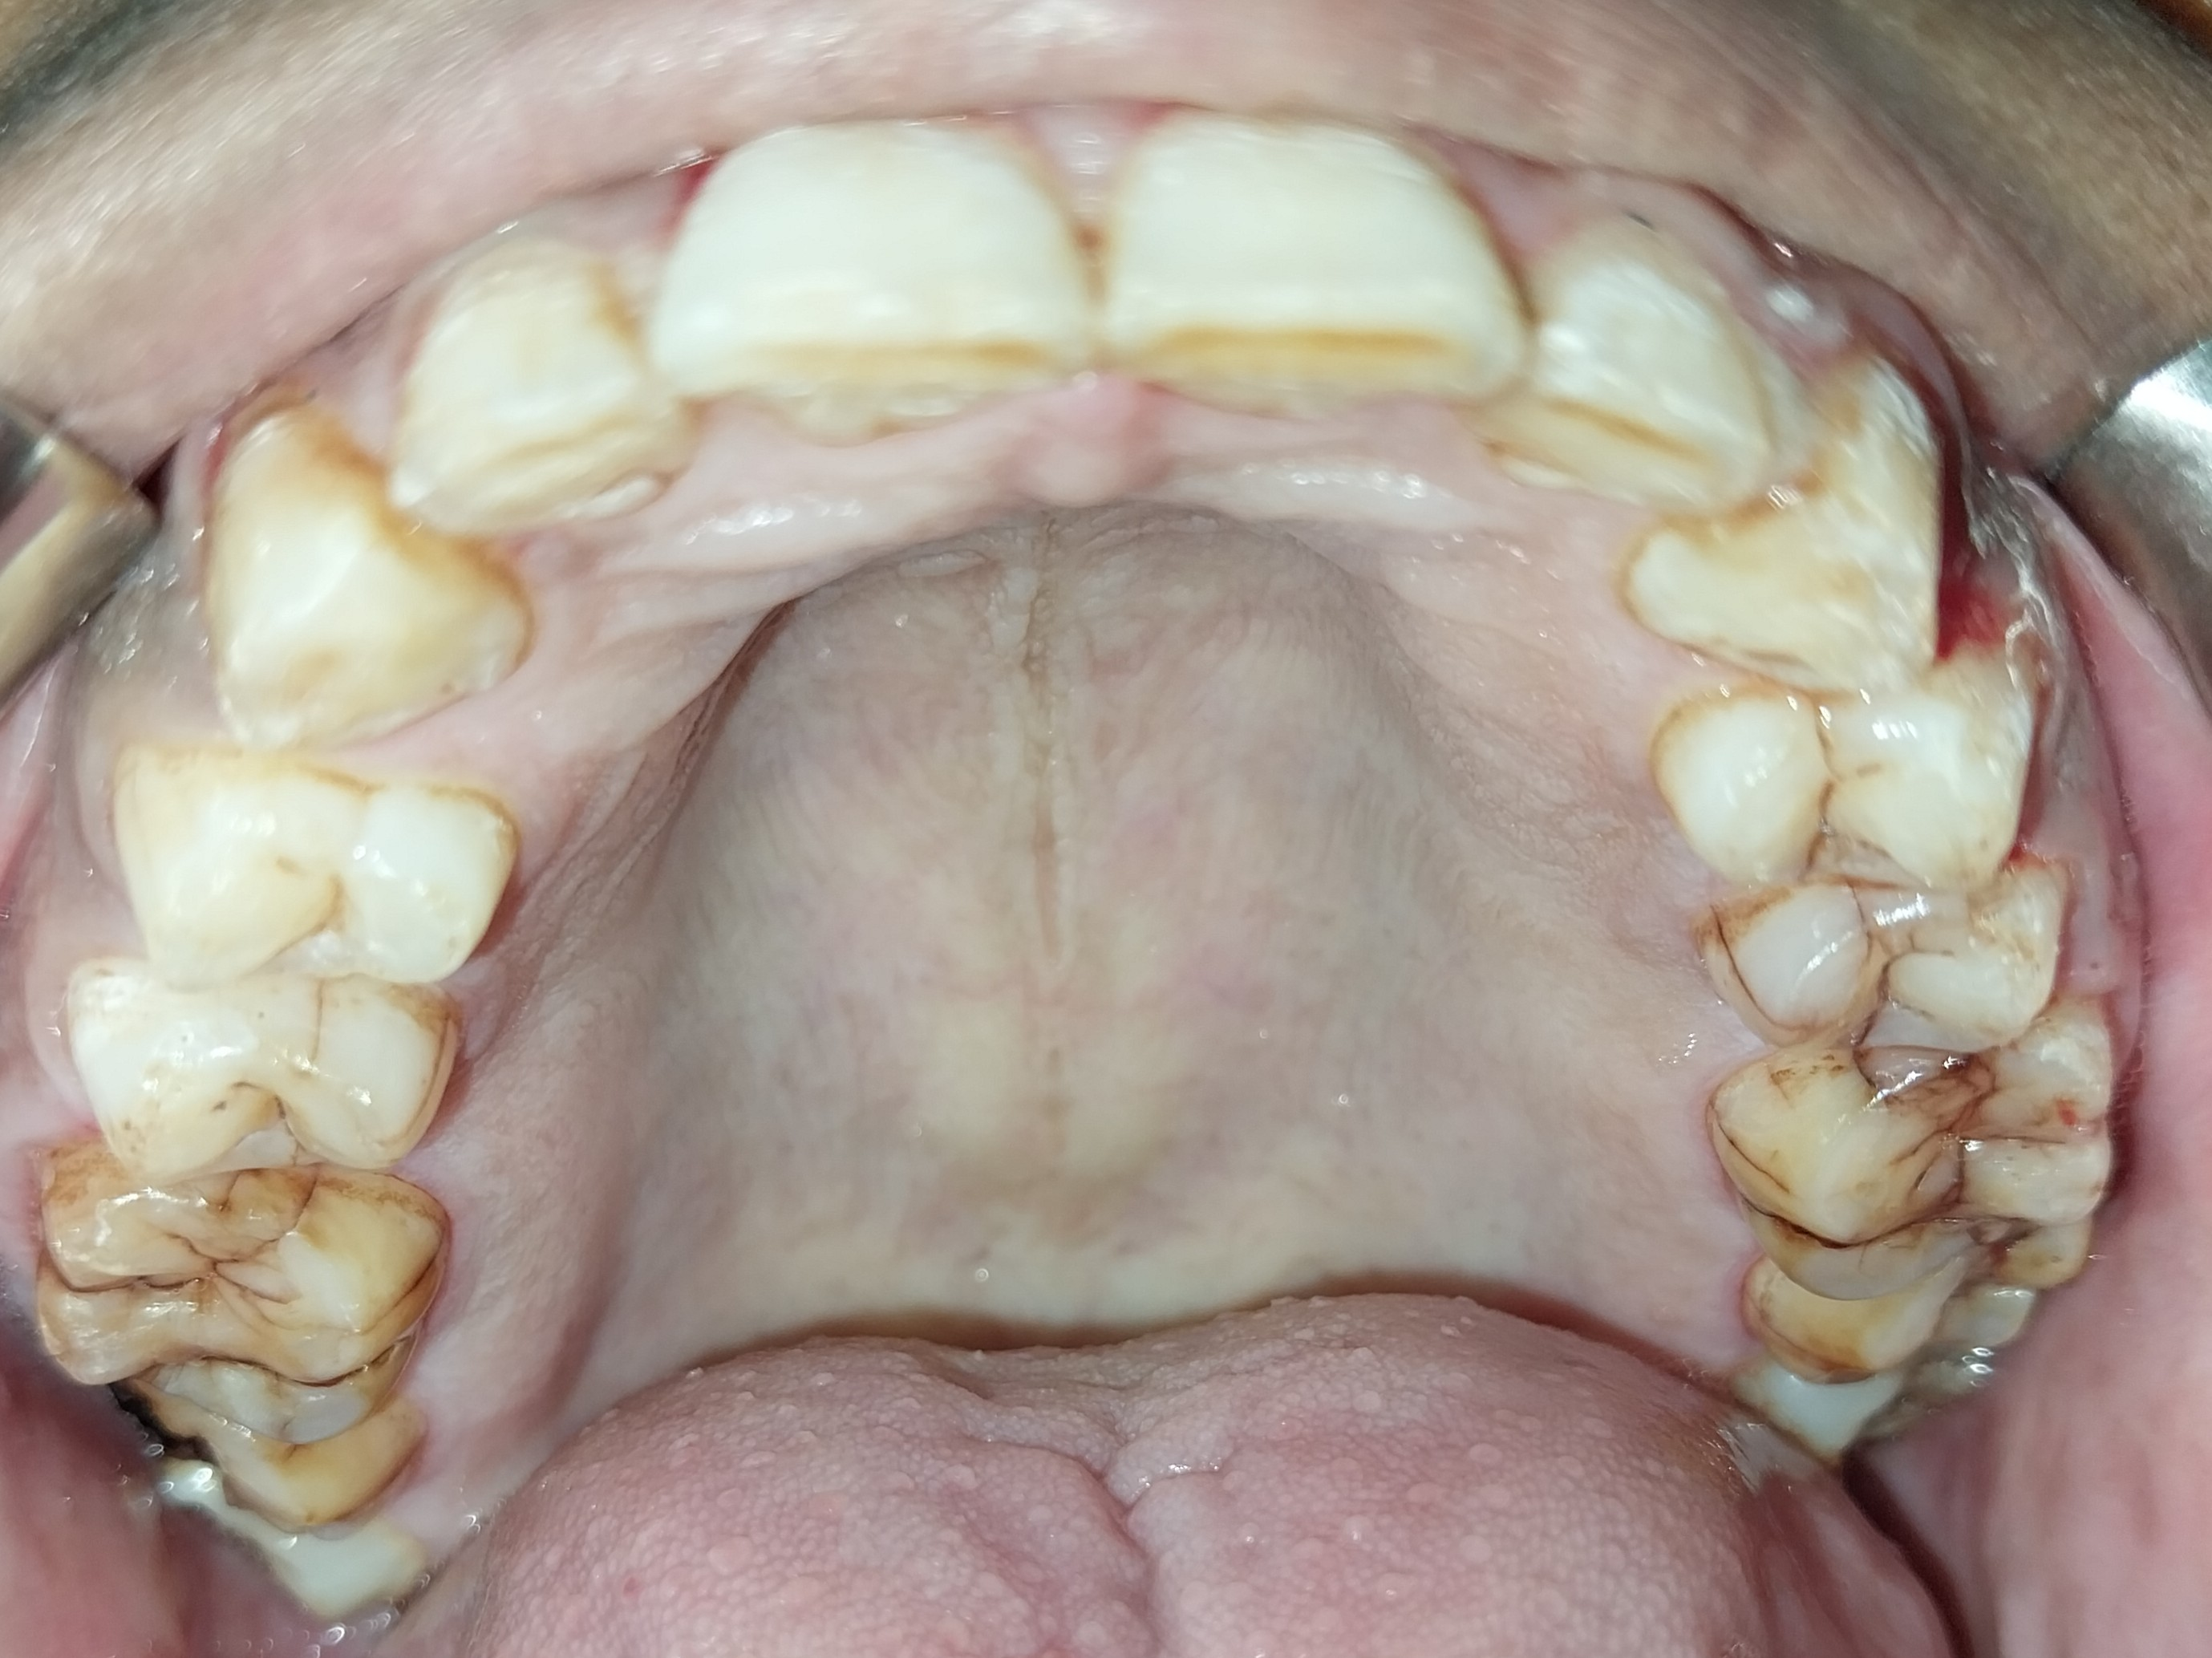D: (34, 1149, 456, 1425), (1719, 1037, 2131, 1293), (63, 1394, 462, 1559)
